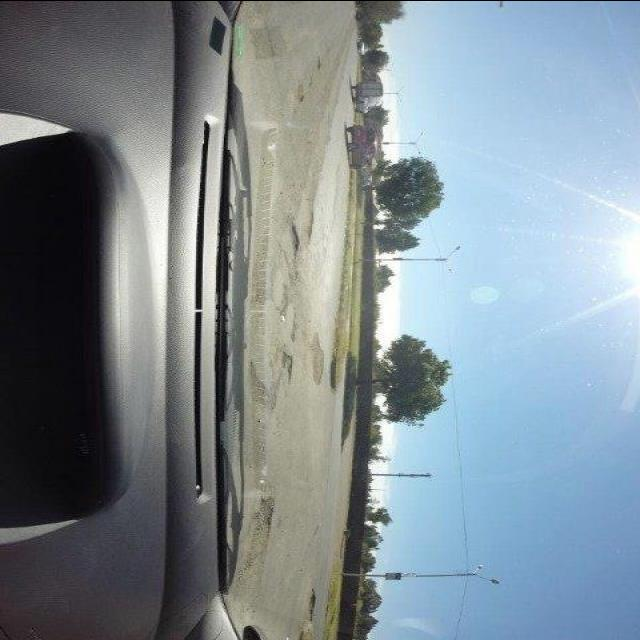lubang: (240, 492, 286, 574), (272, 344, 300, 381), (287, 216, 305, 260)
